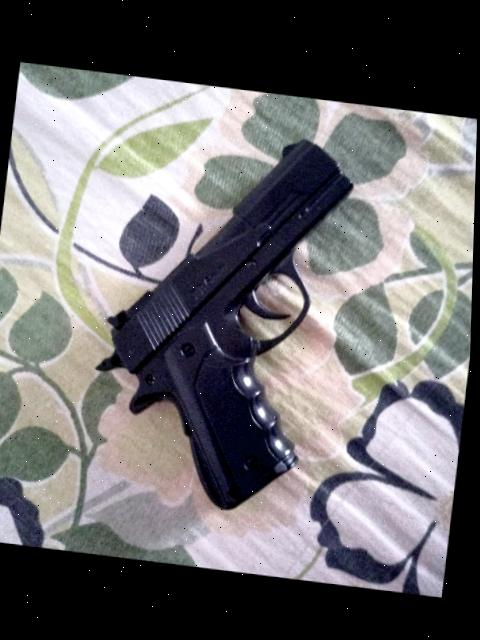pistol: (80, 113, 359, 516)
